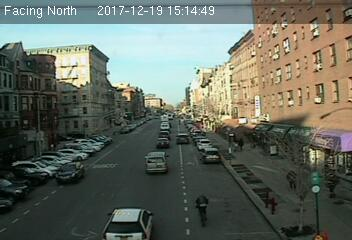bicycle: (194, 193, 210, 228)
car: (99, 204, 157, 240), (55, 161, 85, 182), (144, 151, 168, 172), (202, 146, 220, 161), (176, 133, 189, 144), (156, 137, 169, 146)
